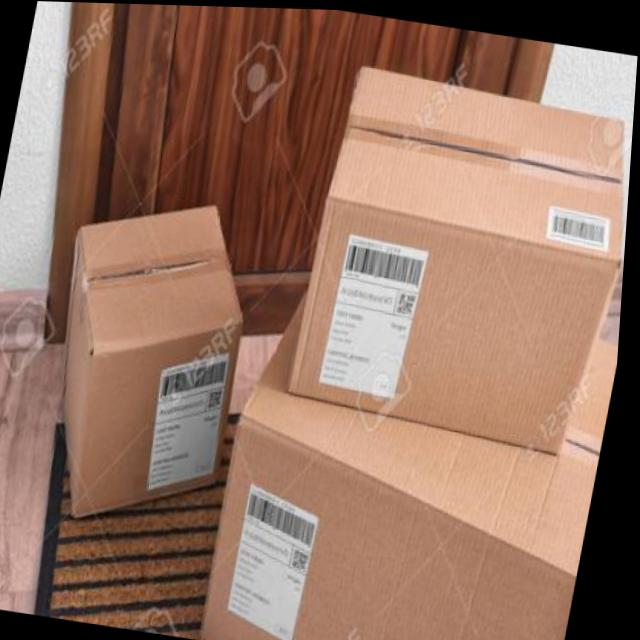box: (201, 263, 626, 640), (282, 50, 638, 469), (29, 175, 277, 550)
